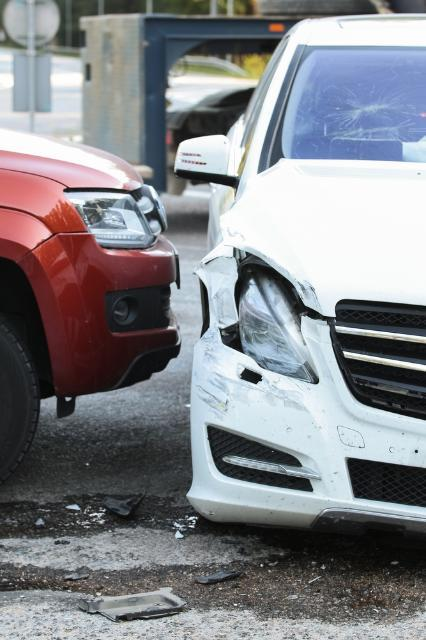dent: (203, 251, 240, 326)
dislocated part: (229, 261, 324, 386)
glass shatter: (282, 49, 426, 163)
scratch: (196, 328, 312, 422)
